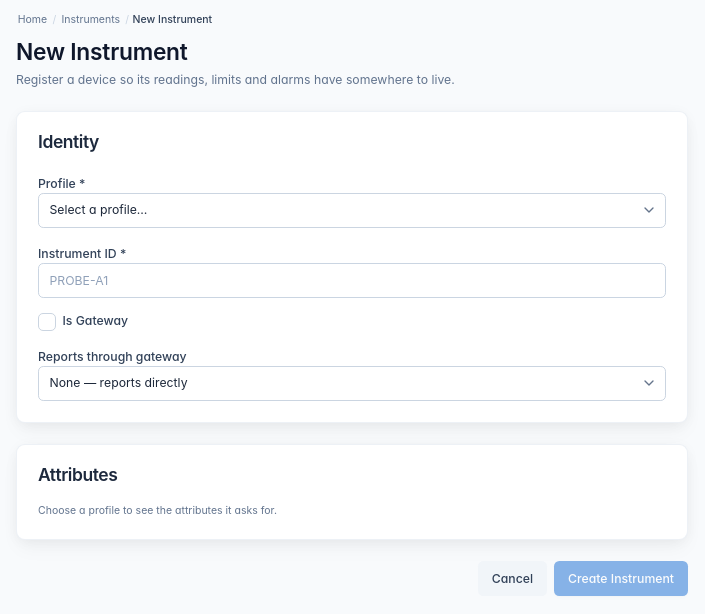
Test: InstrumentCreatePage — attributes come from the profile › asks a different profile for its own keys
The width and height of the screenshot is (705, 614).
Select "Utility" in the dropdown labelled "Profile *" at (352, 210), box [38,193,666,228]
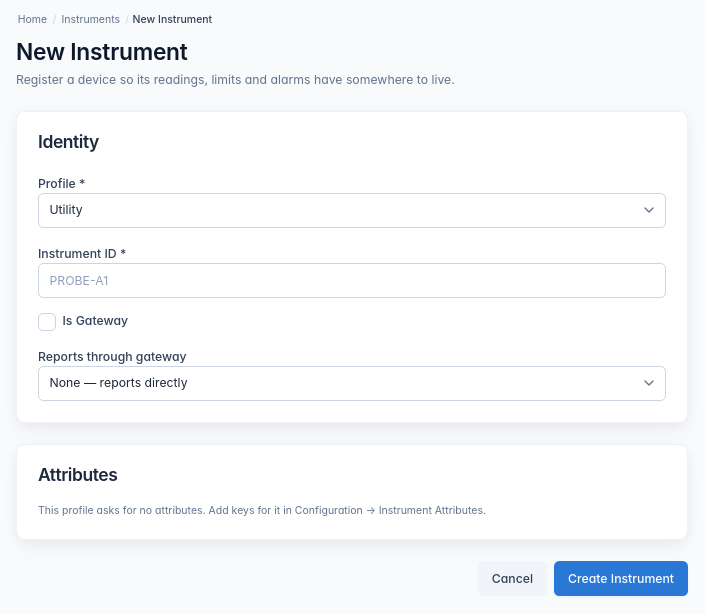
Check: the text "asks for no attributes" is shown, box [38,504,486,517]
